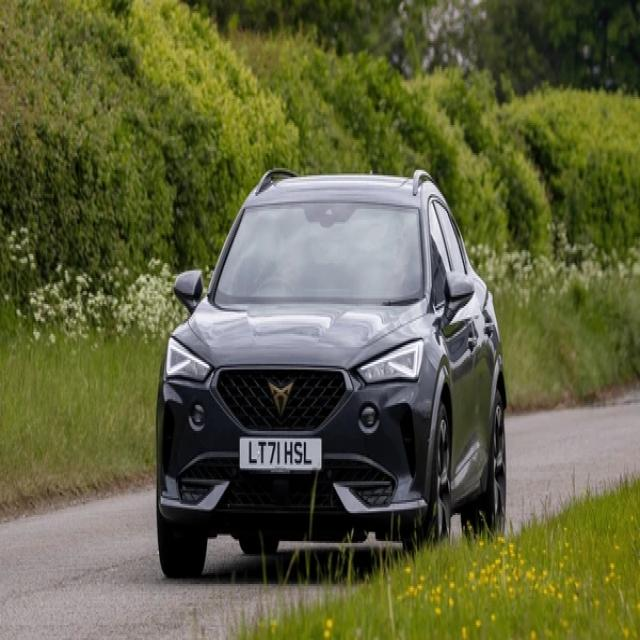cupra: (268, 375, 295, 420)
